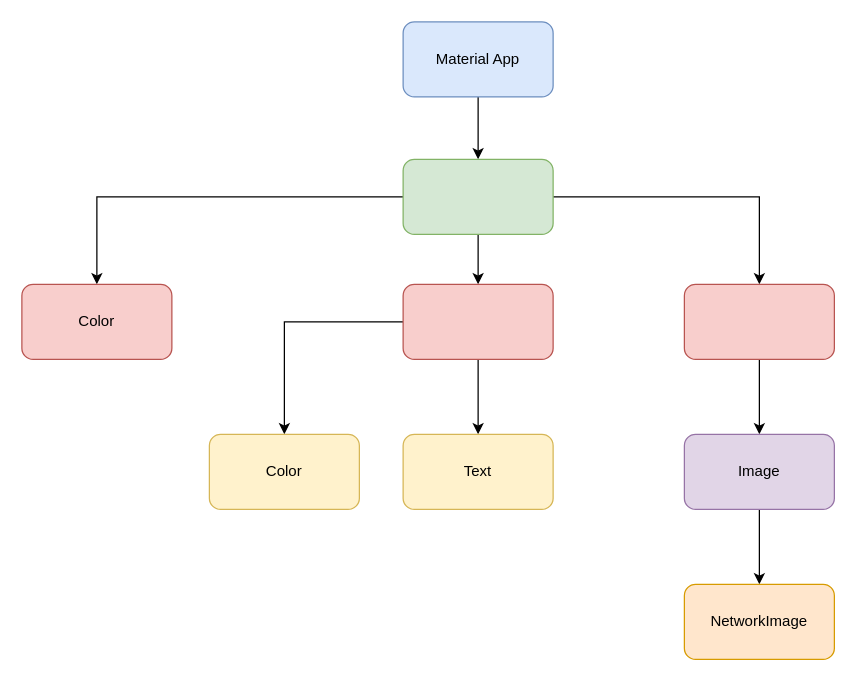
Image size: 856x681. Some labels were removed from this diagram. The shapes that lost their labels are listed below. From the top down, each one's centre as x and y in pixels, then its label:
the point at 477,196: Scaffold
the point at 477,321: AppBar
the point at 758,321: body: Center
